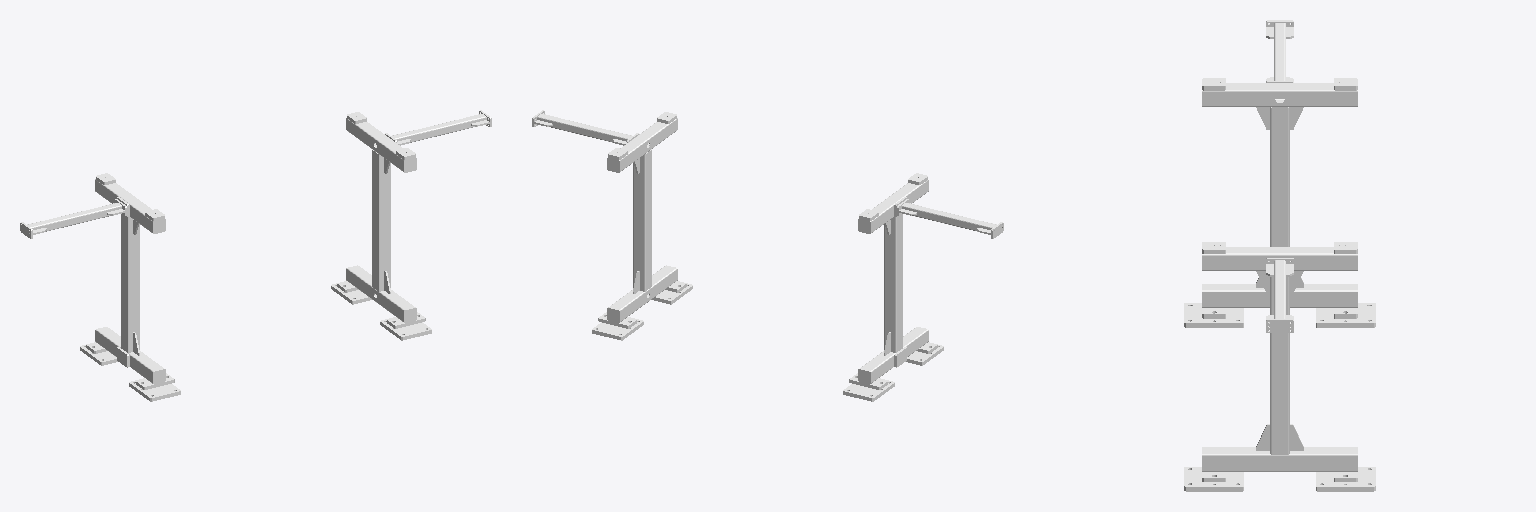
robot.urdf — 4B-ZJ.URDF:
<?xml version='1.0' encoding='utf-8'?>
<robot name="4B-ZJ.URDF">
  <link name="world">
	</link>
  <link name="zt-link1">
    <inertial>
      <origin xyz="-0.48773 -0.886 -0.6758" rpy="0 0 0" />
      <mass value="12.692" />
      <inertia ixx="0.21418" ixy="-1.6347E-08" ixz="4.4126E-13" iyy="0.14383" iyz="3.3775E-12" izz="0.15764" />
    </inertial>
    <visual>
      <origin xyz="0 0 0" rpy="0 0 0" />
      <geometry>
        <mesh filename="meshes/zt-link1.STL" />
      </geometry>
      <material name="">
        <color rgba="1 1 1 1" />
      </material>
    </visual>
    <collision>
      <origin xyz="0 0 0" rpy="0 0 0" />
      <geometry>
        <mesh filename="collision/zt-link1.STL" />
      <convex_hull filename="collision/zt-link1_cvx.STL" /><convex filename="collision/zt-link1_000.STL" /><convex filename="collision/zt-link1_001.STL" /><convex filename="collision/zt-link1_002.STL" /><convex filename="collision/zt-link1_003.STL" /><convex filename="collision/zt-link1_004.STL" /><convex filename="collision/zt-link1_005.STL" /><convex filename="collision/zt-link1_006.STL" /><convex filename="collision/zt-link1_007.STL" /><convex filename="collision/zt-link1_008.STL" /><convex filename="collision/zt-link1_009.STL" /><convex filename="collision/zt-link1_010.STL" /></geometry>
    </collision>
  </link>
  <joint name="world" type="fixed">
    <parent link="world" />
    <child link="zt-link1" />
  </joint>
</robot>

--- What the picture shows (computed from the rendered views, not written in the file) ---
The picture shows the robot from 3 angles, left to right: view 1: azimuth 30°, elevation 25°; view 2: azimuth 150°, elevation 25°; view 3: azimuth 270°, elevation 25°; orthographic projection.
Robot: 4B-ZJ.URDF — 2 links, 1 joints (1 fixed); root link world; default pose: every joint at zero.
Links seen in each view (by area): view 1: zt-link1; view 2: zt-link1; view 3: zt-link1.
Boxes of the visible links, x1,y1,x2,y2 form: zt-link1: (20,110,491,401); zt-link1: (532,110,1003,401); zt-link1: (1184,20,1375,491).
Size in the robot's own frame: 2.97 by 0.8 by 1.09 metres.
Meshes: 1 distinct files referenced, 1 mesh visuals loaded (1 binary STL).
